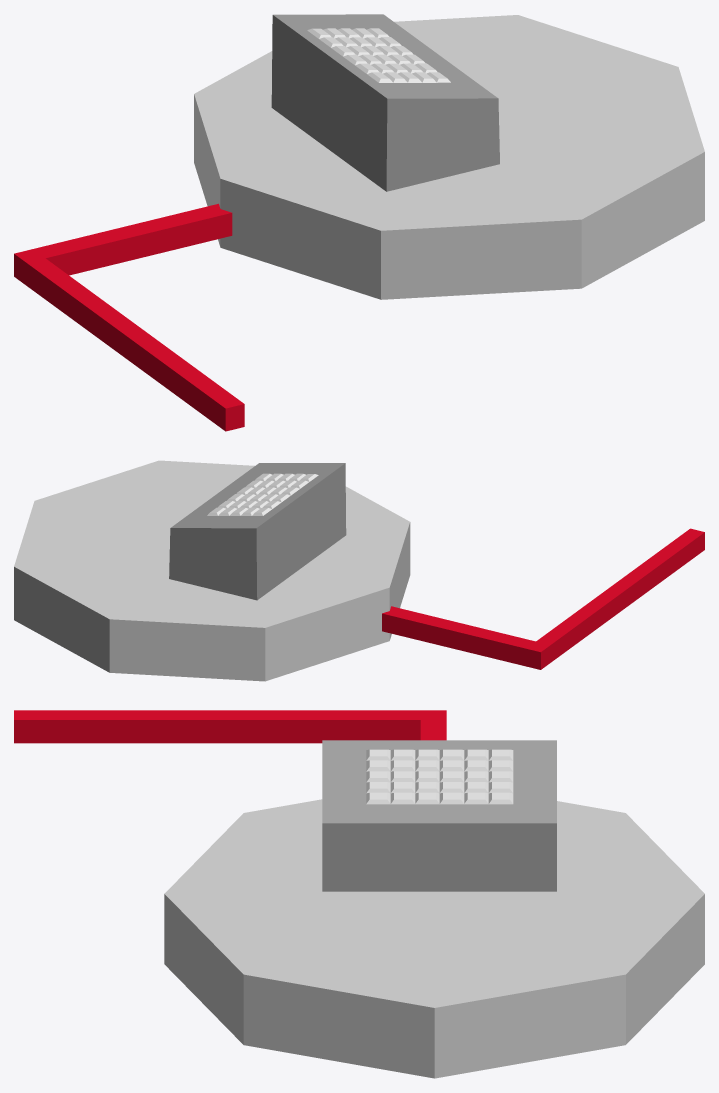
File: misslelaunchercontrolpanel.fbx
3 views of the same model, one above another, from view 1: azimuth 30°, elevation 25°; view 2: azimuth 150°, elevation 25°; view 3: azimuth 270°, elevation 25° (orthographic). The views are drawn at different scales.
Visible parts, largest first — view 1: Cylinder.009, Cube.012, Cube.013; view 2: Cylinder.009, Cube.012, Cube.013; view 3: Cylinder.009, Cube.012, Cube.013.
Boxes of the visible parts, x1=… form: Cylinder.009: x1=194, y1=15, x2=704, y2=299; Cube.012: x1=271, y1=14, x2=499, y2=191; Cube.013: x1=14, y1=203, x2=244, y2=431; Cylinder.009: x1=14, y1=460, x2=410, y2=681; Cube.012: x1=169, y1=463, x2=346, y2=600; Cube.013: x1=382, y1=528, x2=704, y2=669; Cylinder.009: x1=164, y1=799, x2=704, y2=1078; Cube.012: x1=322, y1=740, x2=556, y2=891; Cube.013: x1=14, y1=710, x2=446, y2=743.
Bounding box in the file's own units: 458 × 108 × 407.
